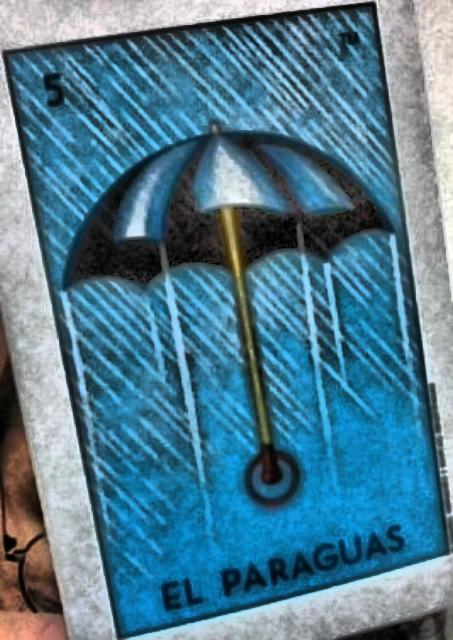El Paraguas: (4, 4, 452, 636)
